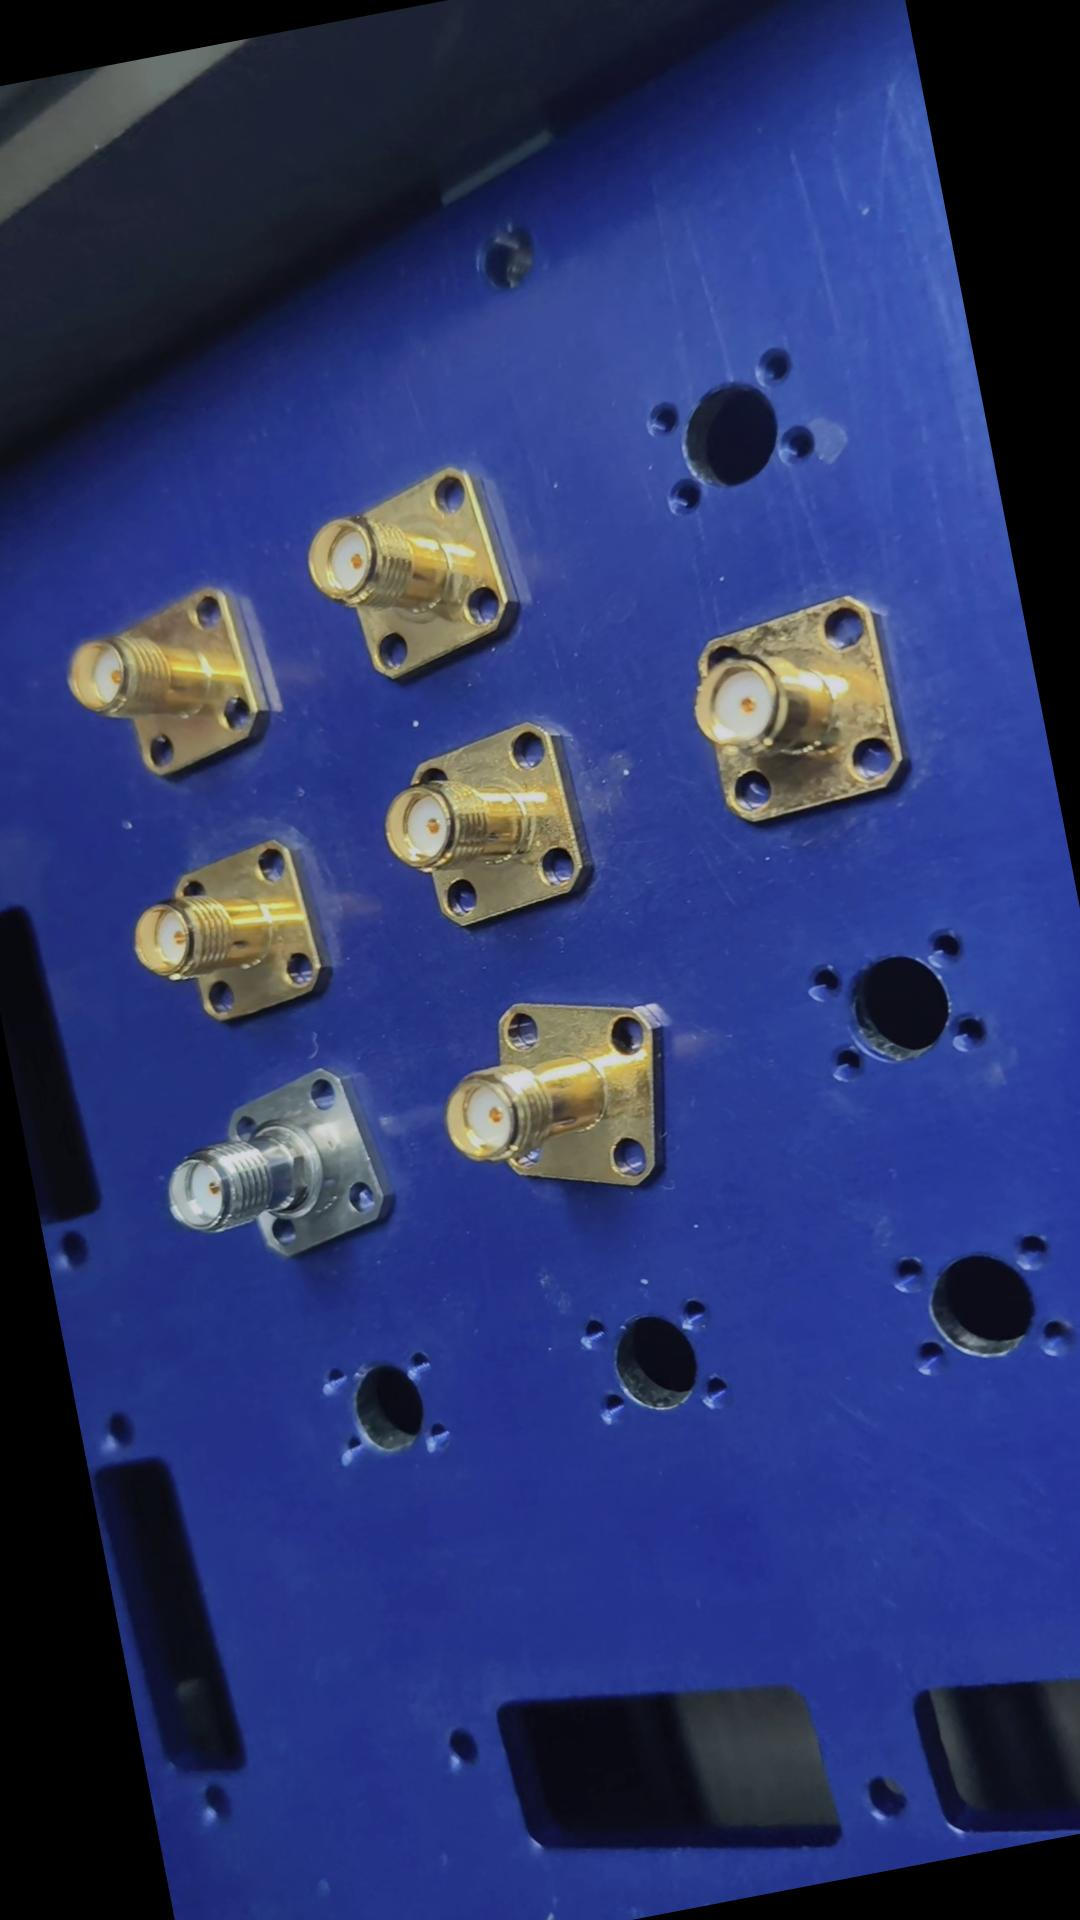SMA: (426, 975, 694, 1220), (674, 588, 922, 833), (146, 1055, 407, 1280), (364, 712, 611, 943), (302, 454, 539, 692), (53, 582, 285, 794), (117, 827, 342, 1040)
